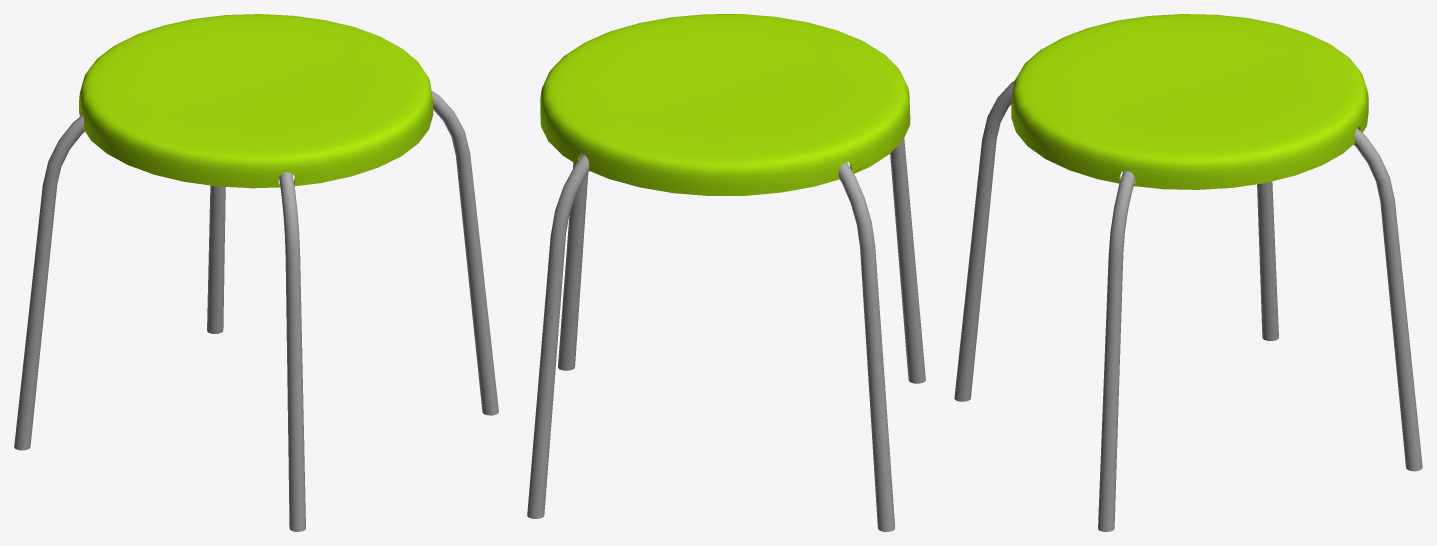
File: IKEA-Forsby_Small_Stool-3D.obj
3 renders of one model, left to right at view 1: azimuth 30°, elevation 25°; view 2: azimuth 150°, elevation 25°; view 3: azimuth 270°, elevation 25°, orthographic. The views are drawn at different scales.
Visible parts, largest first — view 1: Loft01, Loft04; view 2: Loft01, Loft04; view 3: Loft01, Loft04.
Part boxes in pixels (left/top/right/bottom): Loft01: left=79, top=14, right=433, bottom=188; Loft04: left=14, top=90, right=498, bottom=531; Loft01: left=540, top=14, right=910, bottom=195; Loft04: left=527, top=138, right=925, bottom=531; Loft01: left=1011, top=14, right=1368, bottom=189; Loft04: left=954, top=80, right=1422, bottom=531.
Bounding box in the file's own units: 53.03 × 43.59 × 53.03.
